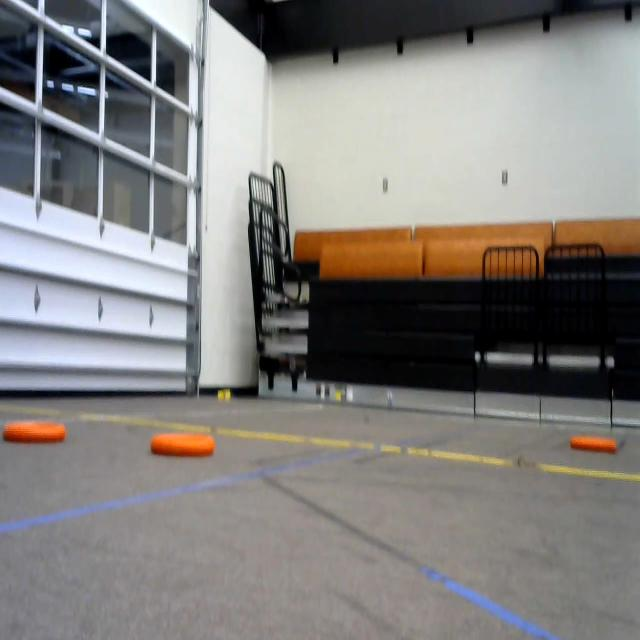note: (146, 425, 222, 473), (563, 424, 625, 464)
